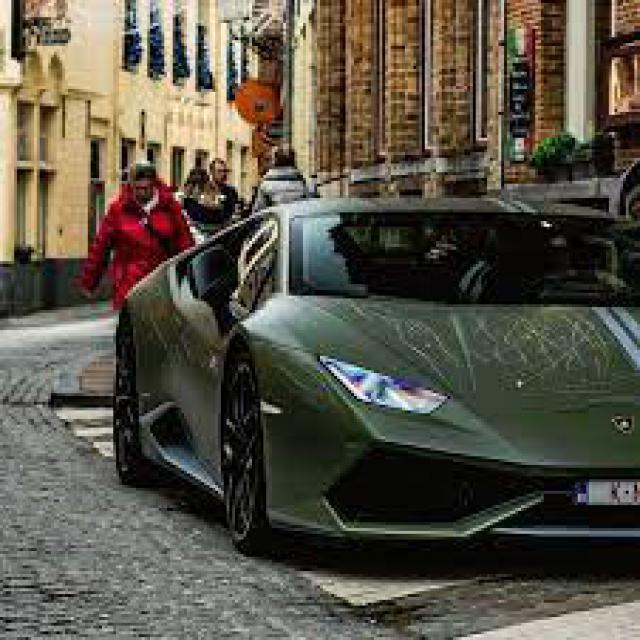bonnet-dent: (264, 287, 638, 439)
